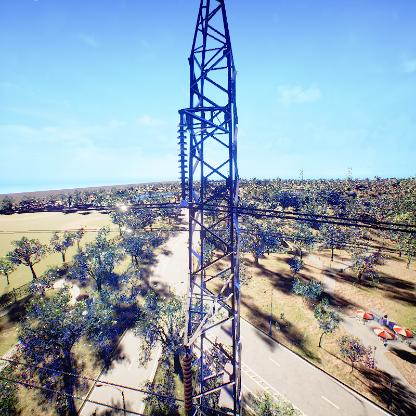insulator: (175, 121, 189, 203), (182, 353, 193, 416)
